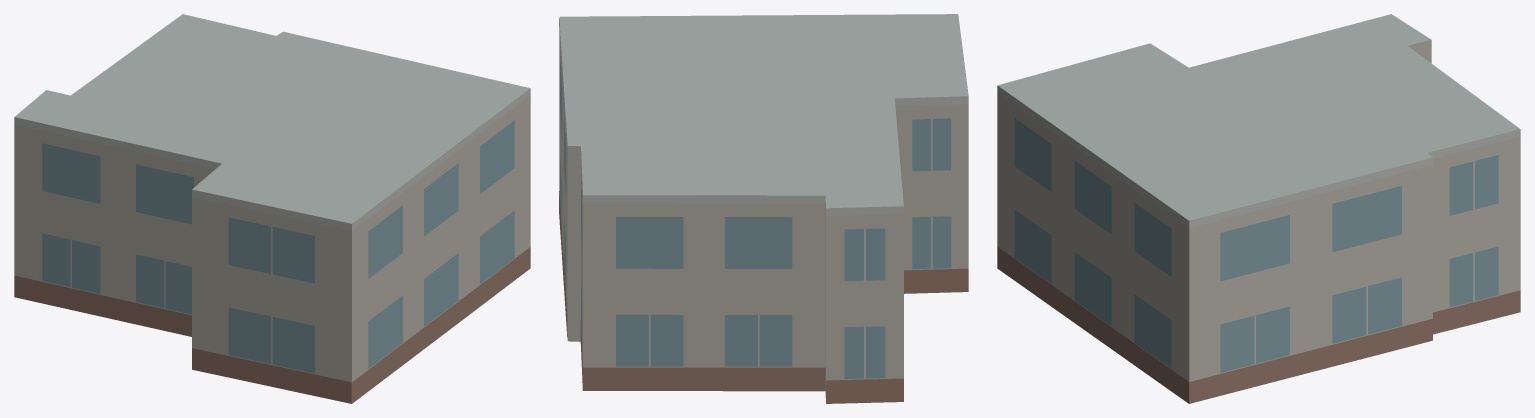
Rendered from survey-upis-32753737.glb.
3 renders of one model, left to right at view 1: azimuth 30°, elevation 25°; view 2: azimuth 150°, elevation 25°; view 3: azimuth 270°, elevation 25°, orthographic. The views are drawn at different scales.
Visible parts, largest first — view 1: survey-upis-32753737.tmp; view 2: survey-upis-32753737.tmp; view 3: survey-upis-32753737.tmp.
Boxes of the visible parts, x1,y1,x2,y2 form: survey-upis-32753737.tmp: [14, 14, 530, 403]; survey-upis-32753737.tmp: [559, 14, 968, 403]; survey-upis-32753737.tmp: [997, 14, 1520, 403].
Size of the model in its own units: 14.78 by 6.1 by 15.8.
